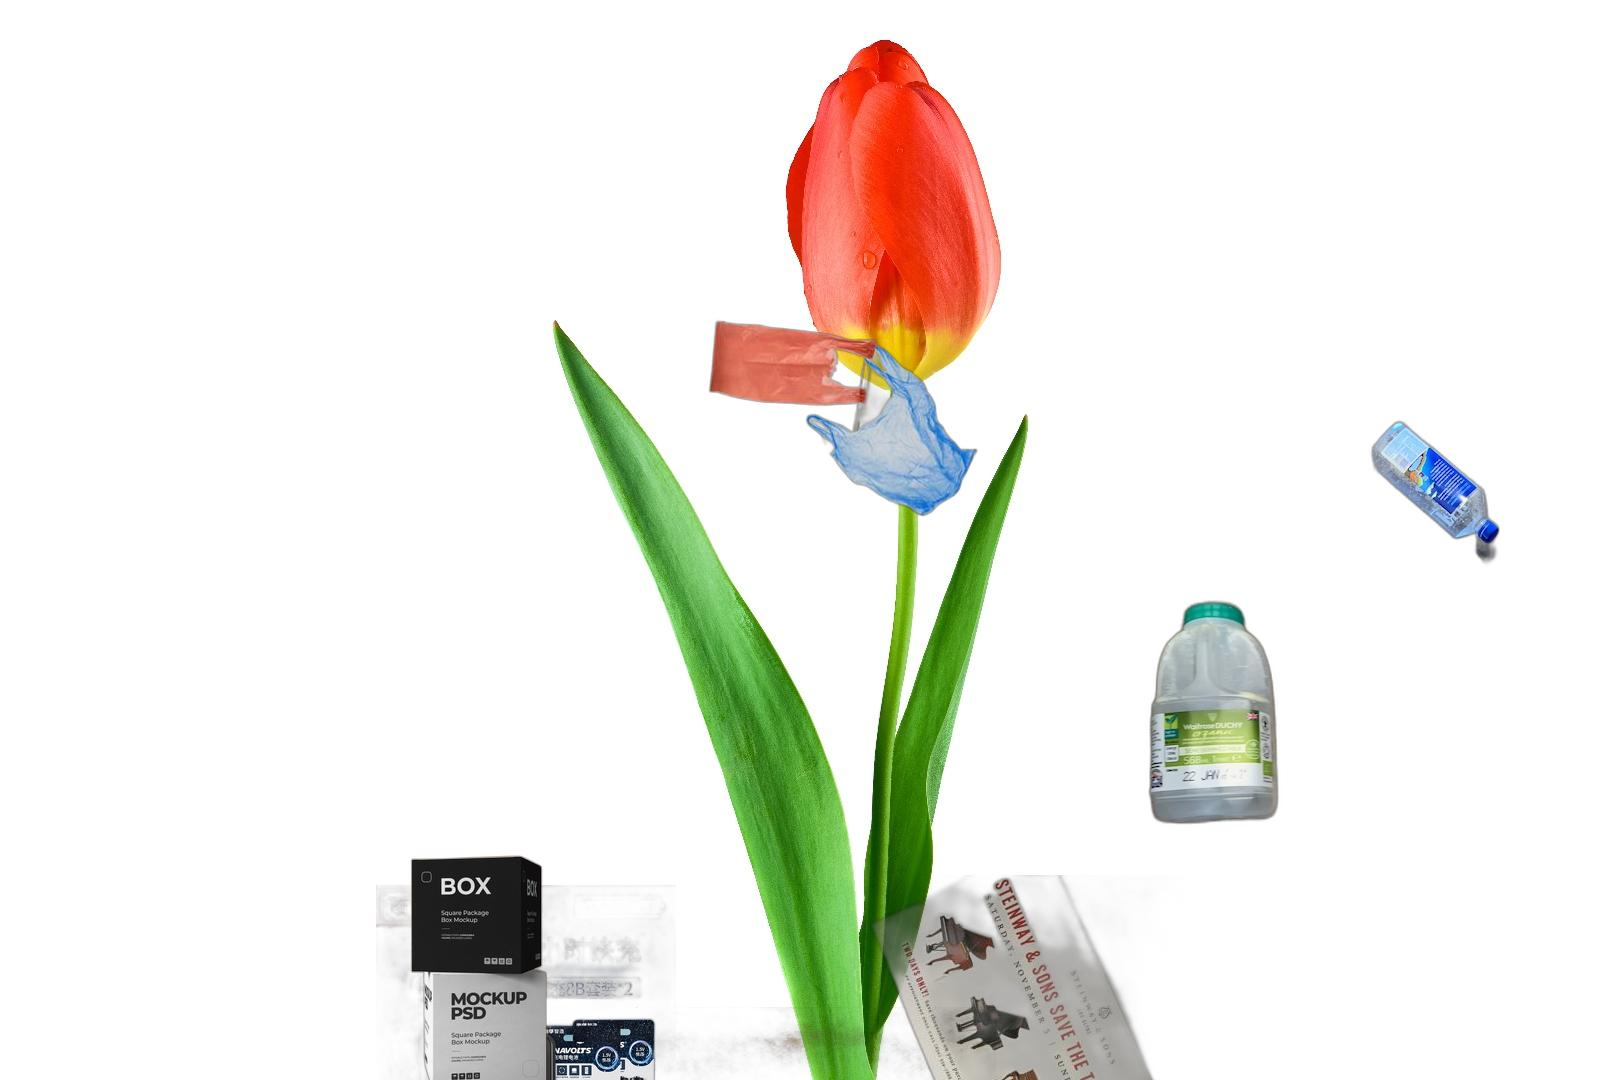battery: (376, 885, 676, 1080)
paper: (805, 875, 1199, 1080)
plastic-bag: (706, 318, 980, 517)
plastic-bottles: (1145, 595, 1283, 830), (1367, 416, 1504, 568), (1437, 1072, 1619, 1080)
trashbox-cardboard: (407, 853, 550, 1080), (637, 1006, 996, 1080)
